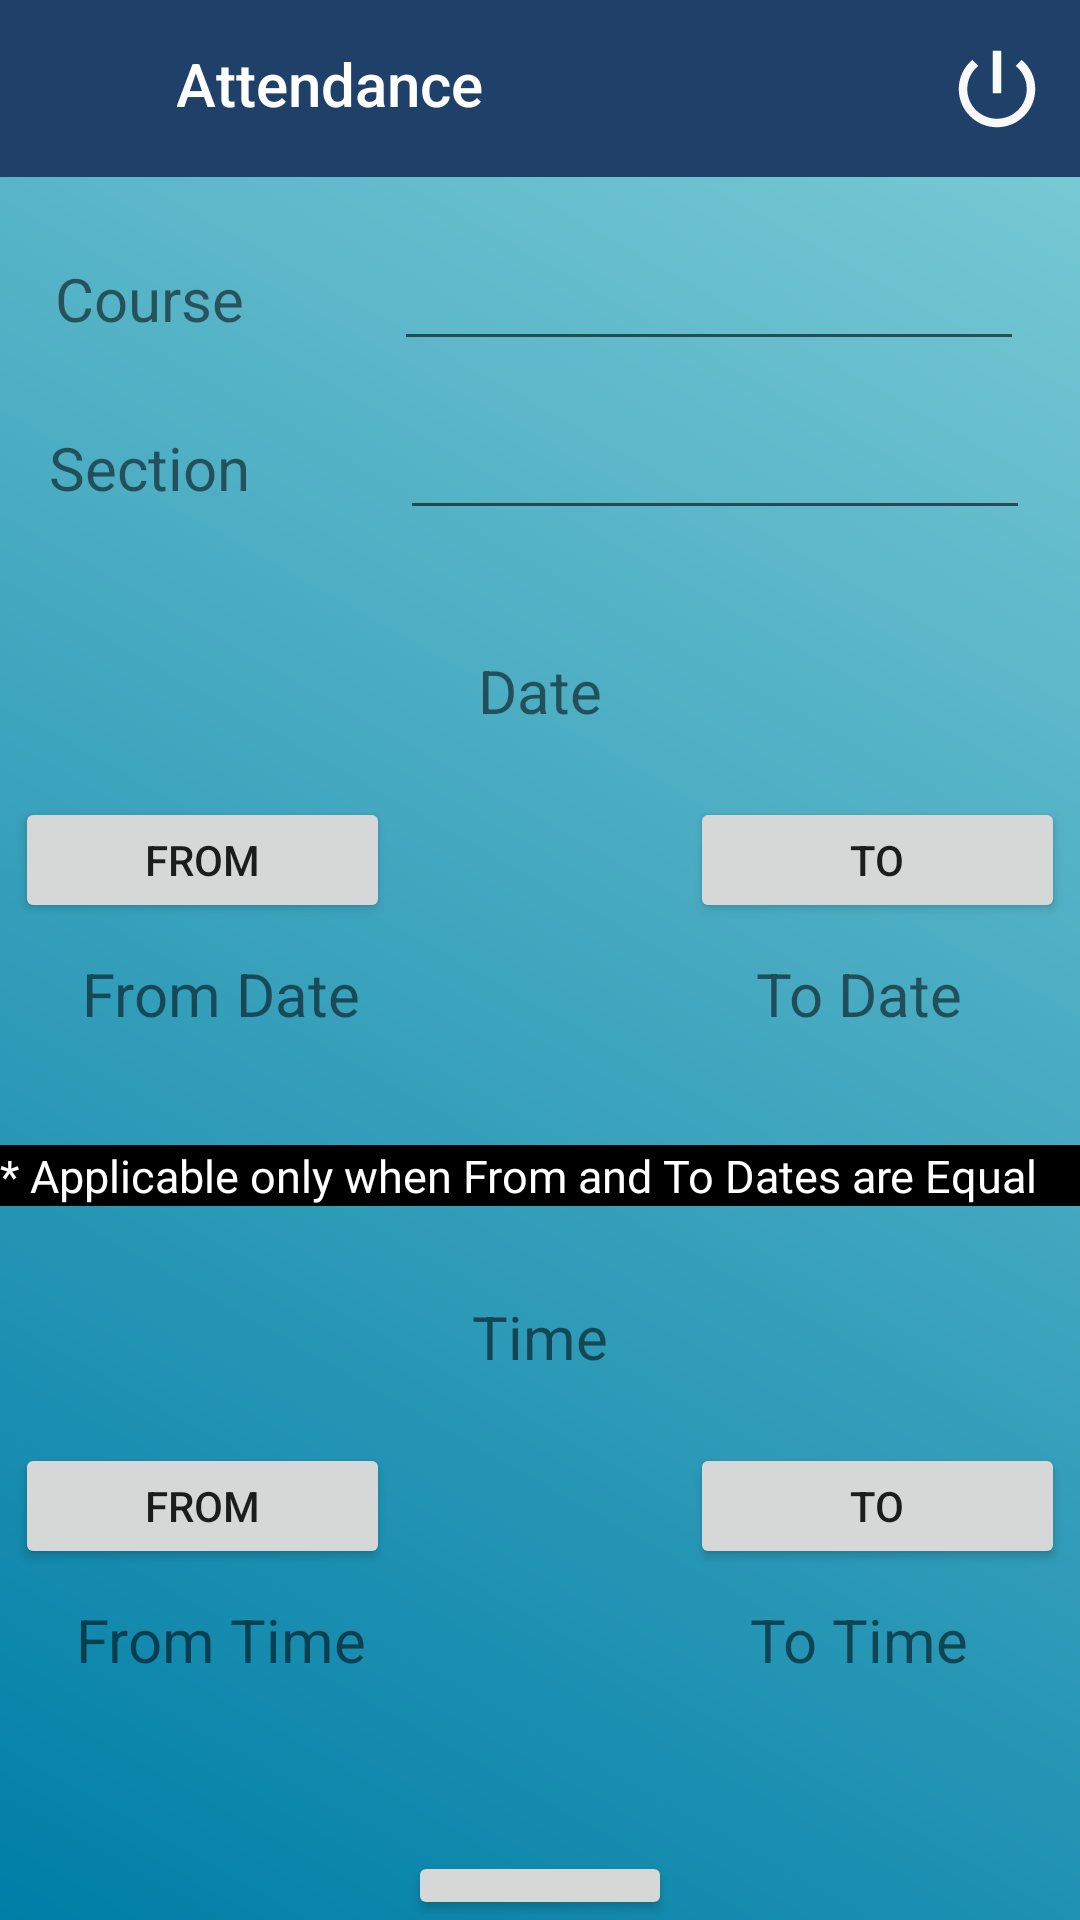

Icons on this 1080 x 1920 Android screen, each with its box as [x1,y1,x2,y2]:
power settings: [958,50,1036,128]
